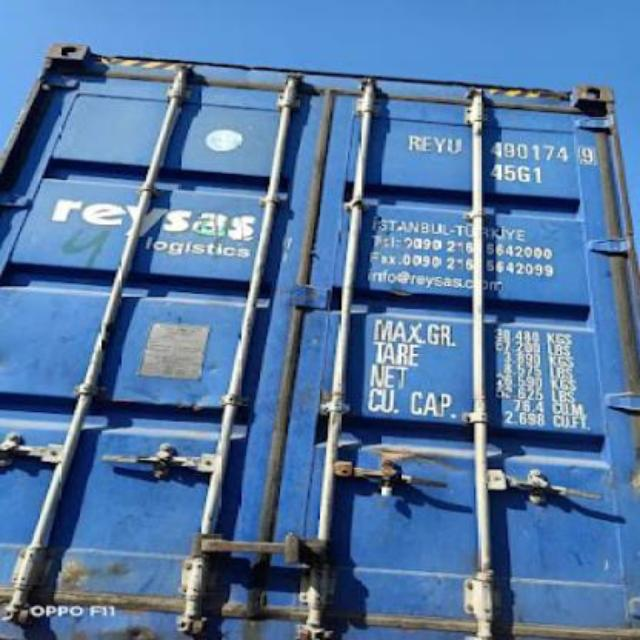0: (516, 134, 530, 162)
1: (528, 132, 540, 162)
4: (554, 136, 568, 168), (486, 133, 502, 157)
7: (542, 135, 556, 167)
9: (576, 144, 594, 170), (504, 136, 516, 158)
E: (422, 128, 434, 156)
R: (406, 128, 419, 154)
U: (446, 133, 459, 157)
Y: (434, 131, 446, 155)
